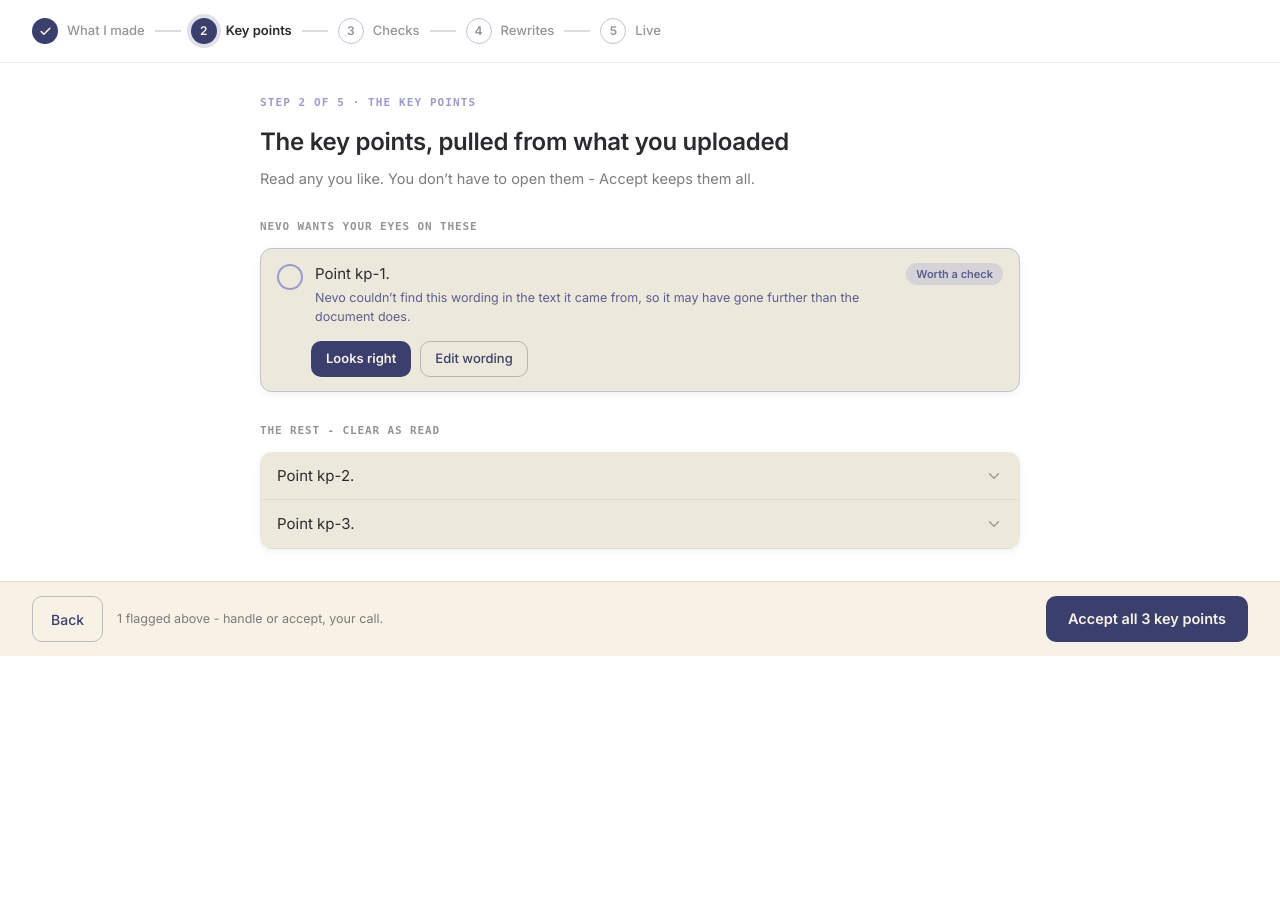
Scenario: the key points › signs every key point in one press, with the hash it was shown
The width and height of the screenshot is (1280, 900).
Expected: the navigation bar named "Lesson review steps" is shown, left=0, top=0, right=1279, bottom=63
Click the button "Accept all 3 key points". click: (1147, 619)
box: left=1046, top=596, right=1248, bottom=642
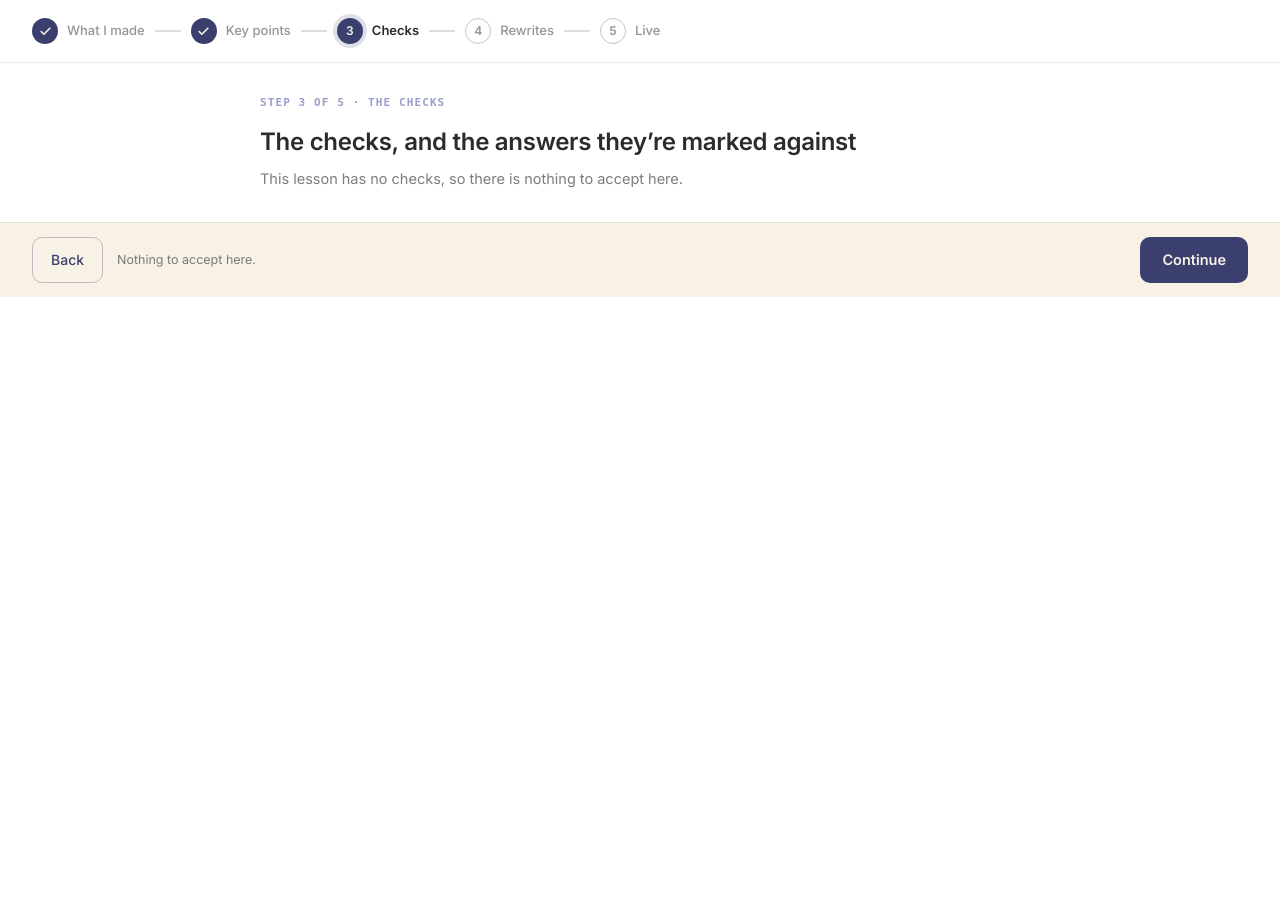
Expected: the text "Step 3 of 5 · the checks" is shown, left=260, top=96, right=445, bottom=109
